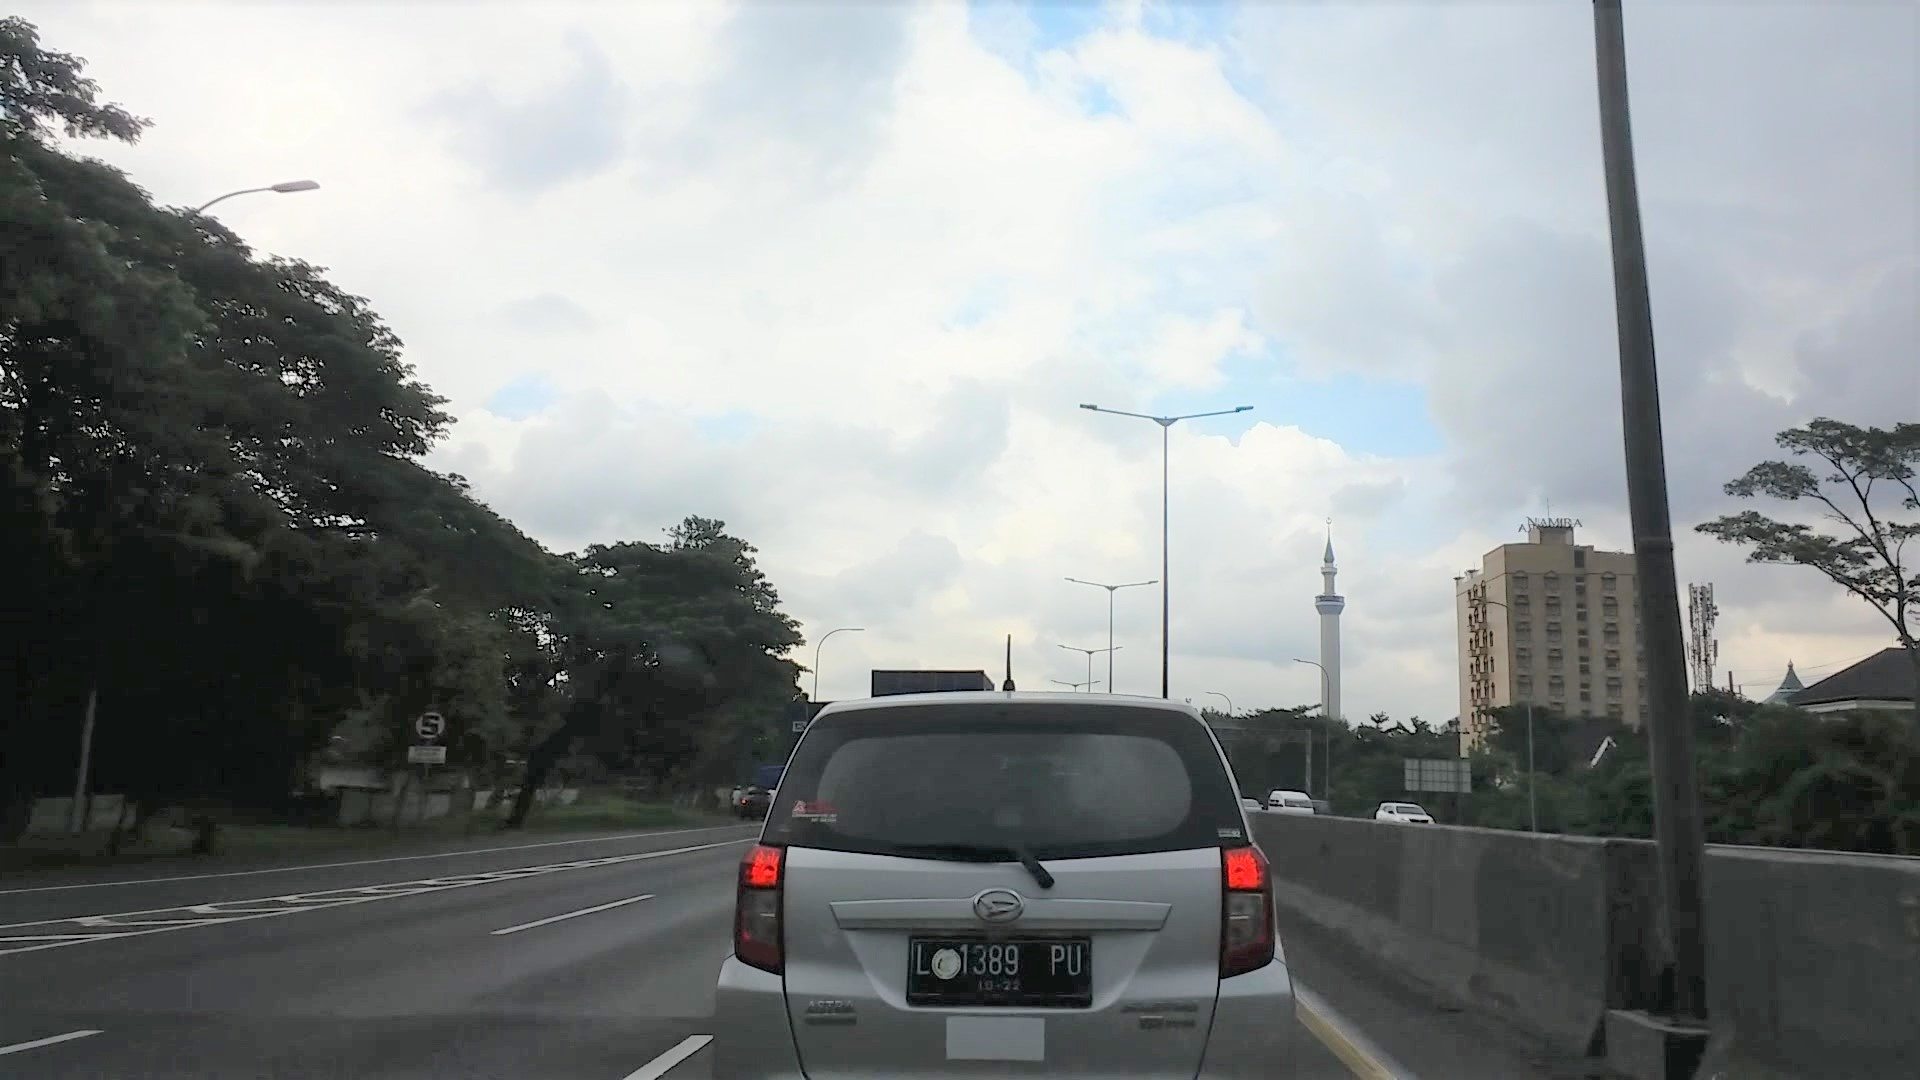plate_positive: (907, 935, 1093, 1009)
